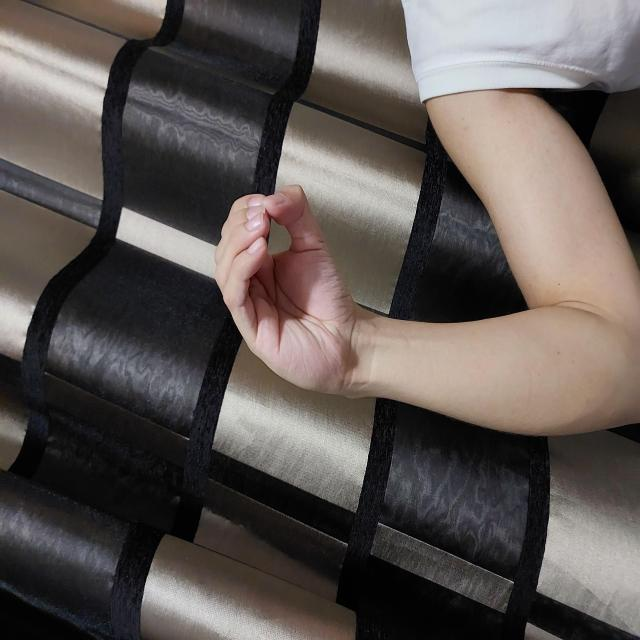O: (247, 213, 460, 357)
